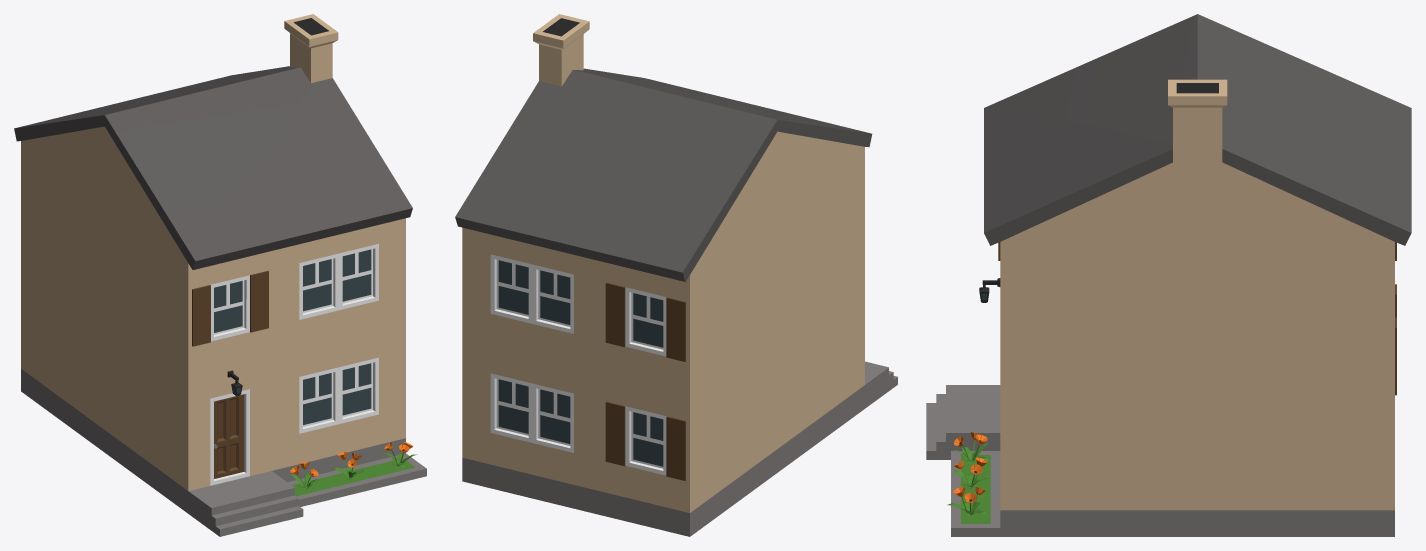
Rendered from buildings_building-house-block.fbx.
3 views of the same model, side by side, from view 1: azimuth 30°, elevation 25°; view 2: azimuth 150°, elevation 25°; view 3: azimuth 270°, elevation 25° (orthographic). The views are drawn at different scales.
Parts seen in each view (by area): view 1: buildings_building_house_block; view 2: buildings_building_house_block; view 3: buildings_building_house_block.
Part boxes in pixels (box(x1,y1,x2,y2)): buildings_building_house_block: box(14, 14, 426, 536); buildings_building_house_block: box(455, 14, 897, 536); buildings_building_house_block: box(926, 14, 1411, 536).
Size of the model in its own units: 123 by 200 by 199.
